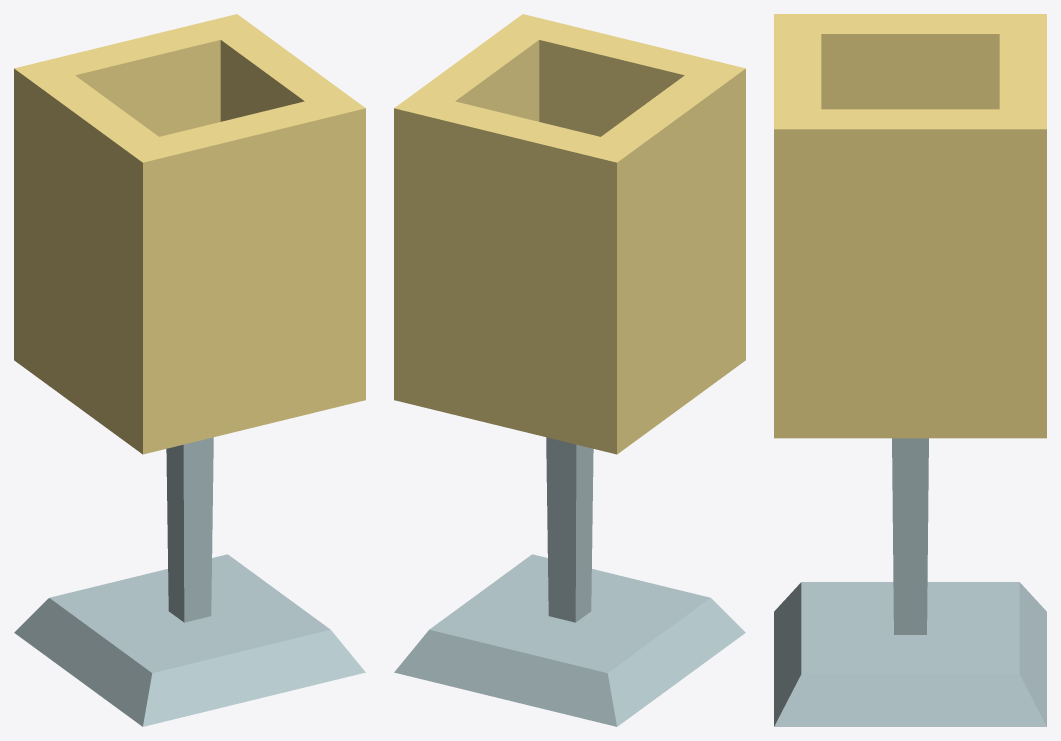
File: lampSquareTable.obj
The picture shows the model from 3 angles, left to right: view 1: azimuth 30°, elevation 25°; view 2: azimuth 150°, elevation 25°; view 3: azimuth 270°, elevation 25°; orthographic projection. The views are drawn at different scales.
Visible parts, largest first — view 1: lampSquareTable; view 2: lampSquareTable; view 3: lampSquareTable.
Boxes of the visible parts, x1,y1,x2,y2 form: lampSquareTable: (14, 14, 365, 726); lampSquareTable: (394, 14, 745, 726); lampSquareTable: (774, 14, 1046, 726).
Bounding box in the file's own units: 0.12 × 0.29 × 0.12.
